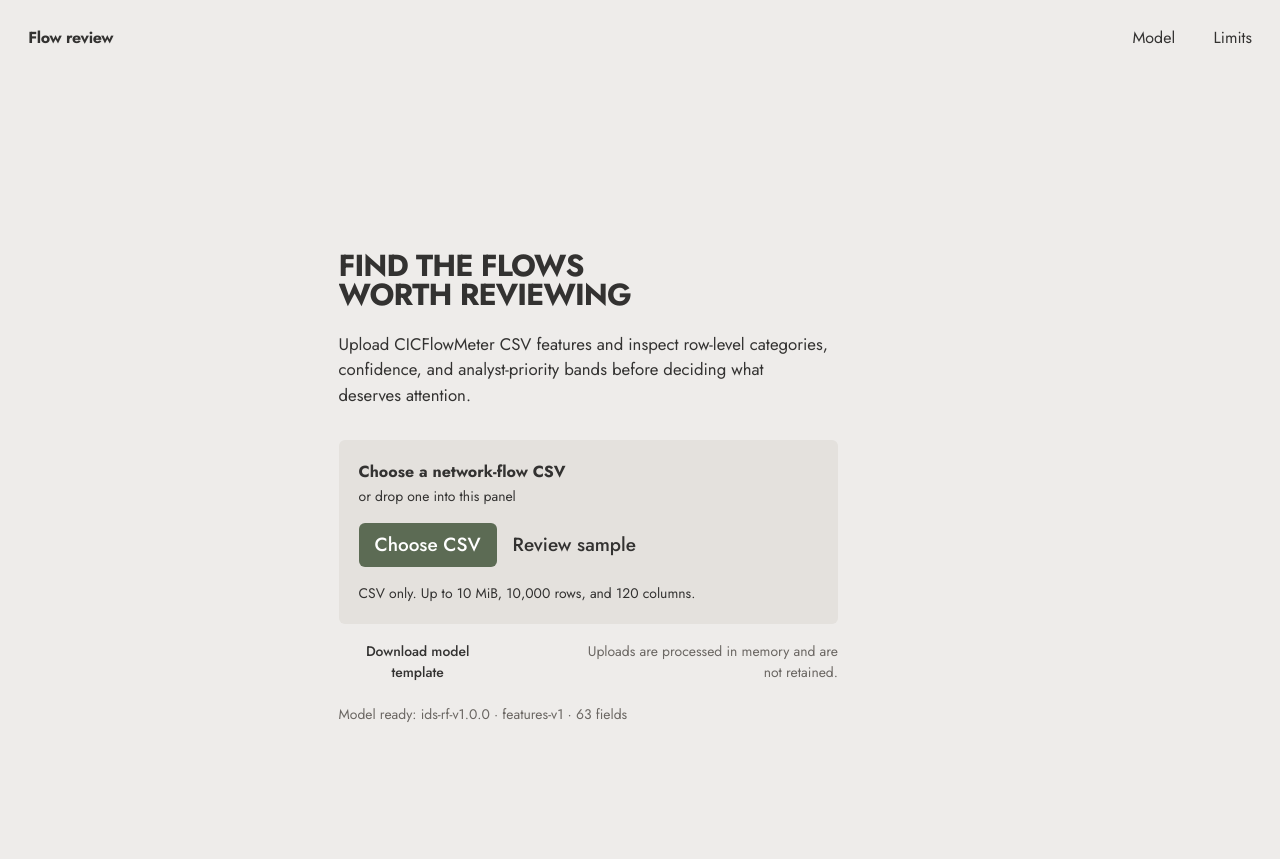
Test: App live API states › renders an honest empty response
Check: the text "Model ready: ids-rf-v1.0.0 · features-v1 · 63 fields" is shown, box [338,704,627,725]
Click the button "Review sample" at {"x": 574, "y": 545}, box [513,523,636,567]
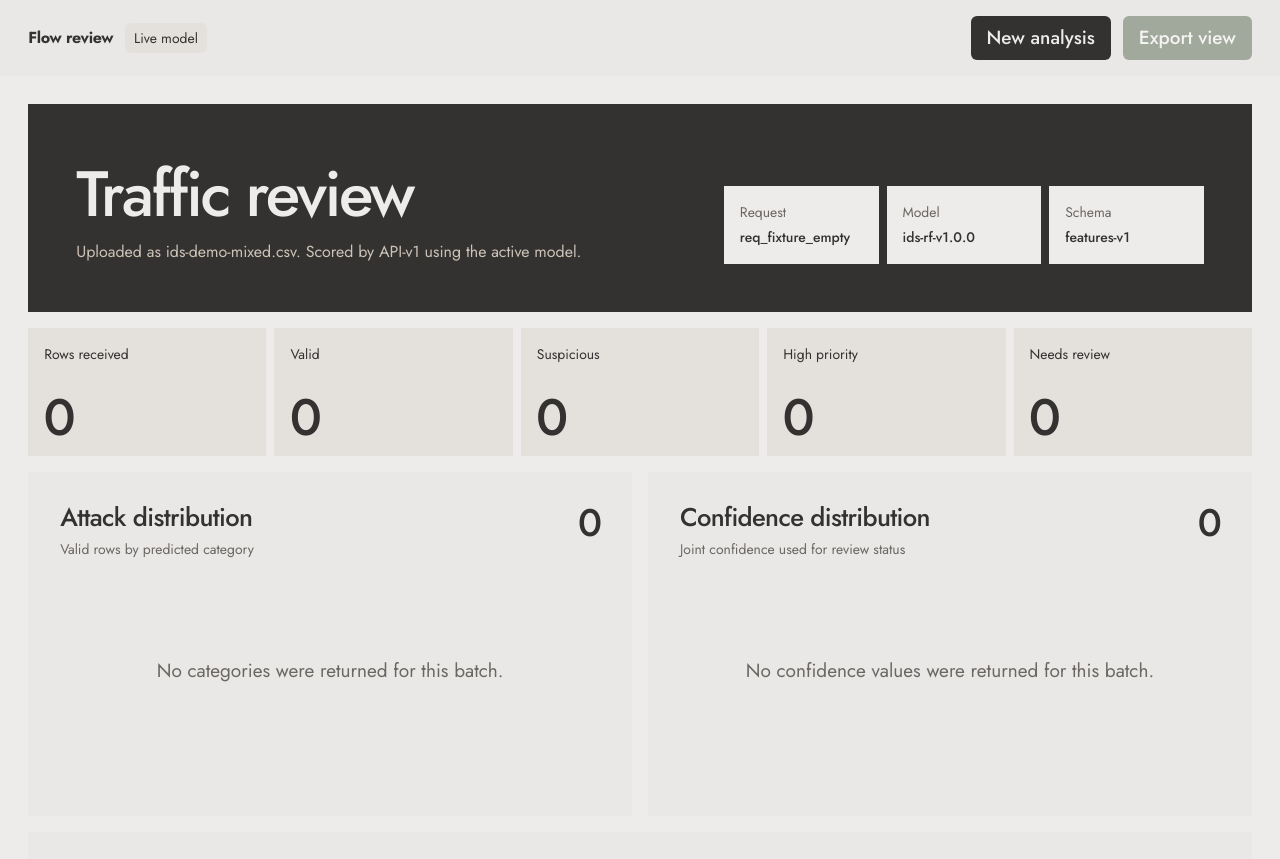
Check: the button "Export view" is disabled, box [1123,16,1252,60]
